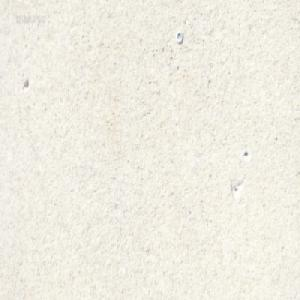Washer: (175, 29, 183, 44)
